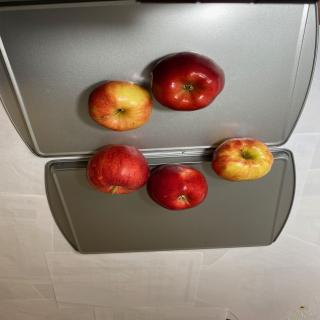Apple: (150, 51, 225, 111), (88, 80, 153, 132), (86, 144, 150, 194), (146, 163, 208, 210), (211, 137, 274, 182)
